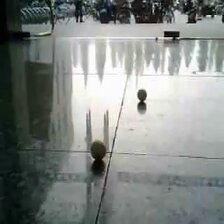w: (90, 140, 107, 160), (137, 88, 148, 102)
